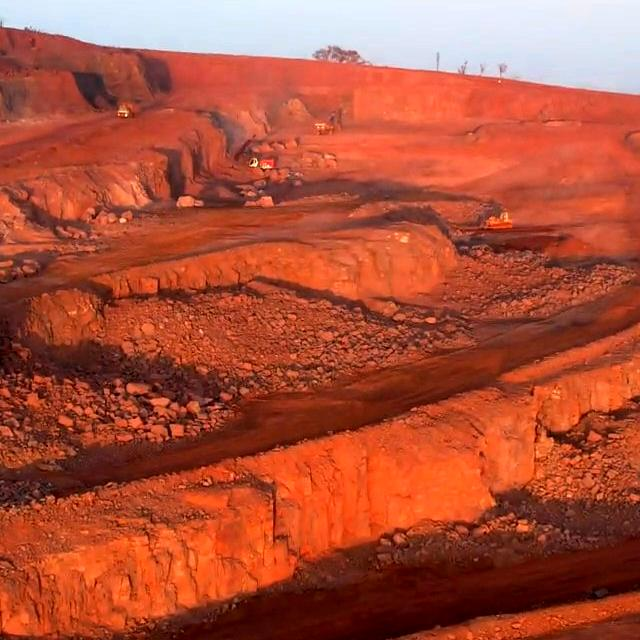Blast rig: (247, 152, 279, 171)
